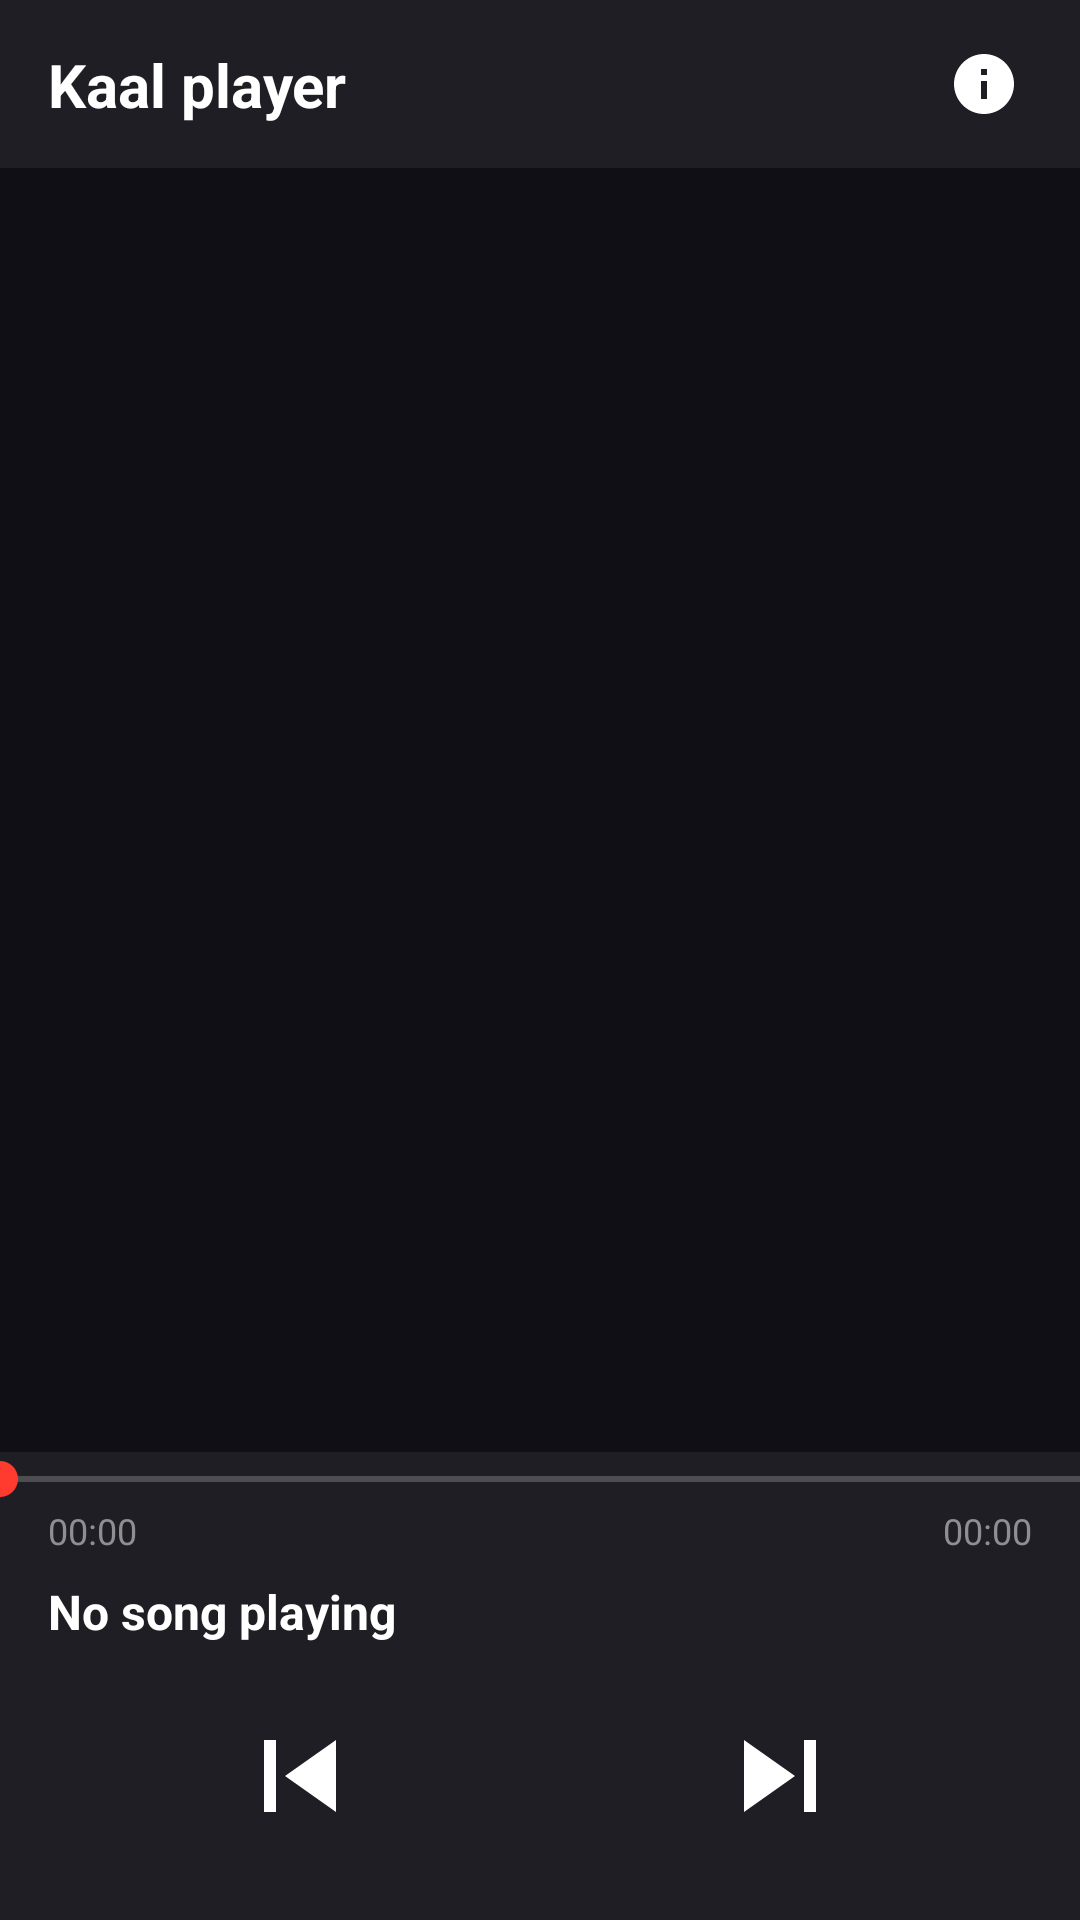

Icons on this 1080 x 1920 Android screen, each with the point to tap as (x=x, y=y):
About: (x=984, y=84)
Next: (x=780, y=1776)
Previous: (x=300, y=1776)
